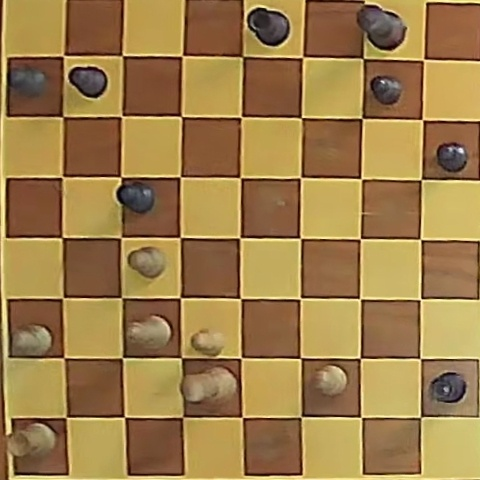black-king: (357, 4, 407, 50)
black-pawn: (69, 66, 107, 98), (9, 66, 47, 97), (117, 182, 155, 213), (371, 76, 403, 105), (436, 143, 467, 172)
black-rook: (247, 7, 290, 46), (429, 372, 467, 405)
white-bishop: (127, 315, 172, 350)
white-king: (179, 366, 236, 405)
white-pawn: (11, 324, 52, 356), (128, 247, 166, 278), (313, 365, 347, 396), (191, 328, 226, 356)
white-rook: (8, 423, 58, 459)
